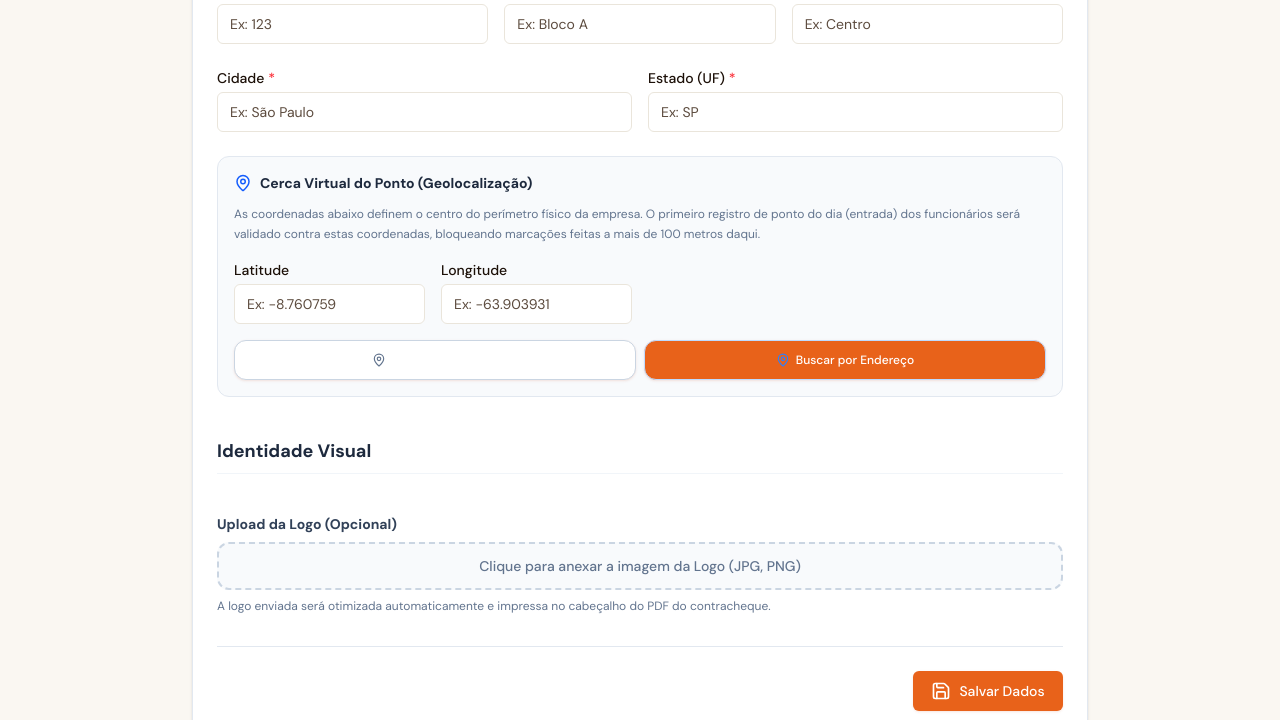
Test: ConfiguracoesEmpresa Component › performs device GPS geolocation calibration
(page scrolled)
Click the button "GPS do Dispositivo" at {"x": 435, "y": 360}, box x1=234 y1=340 x2=636 y2=380
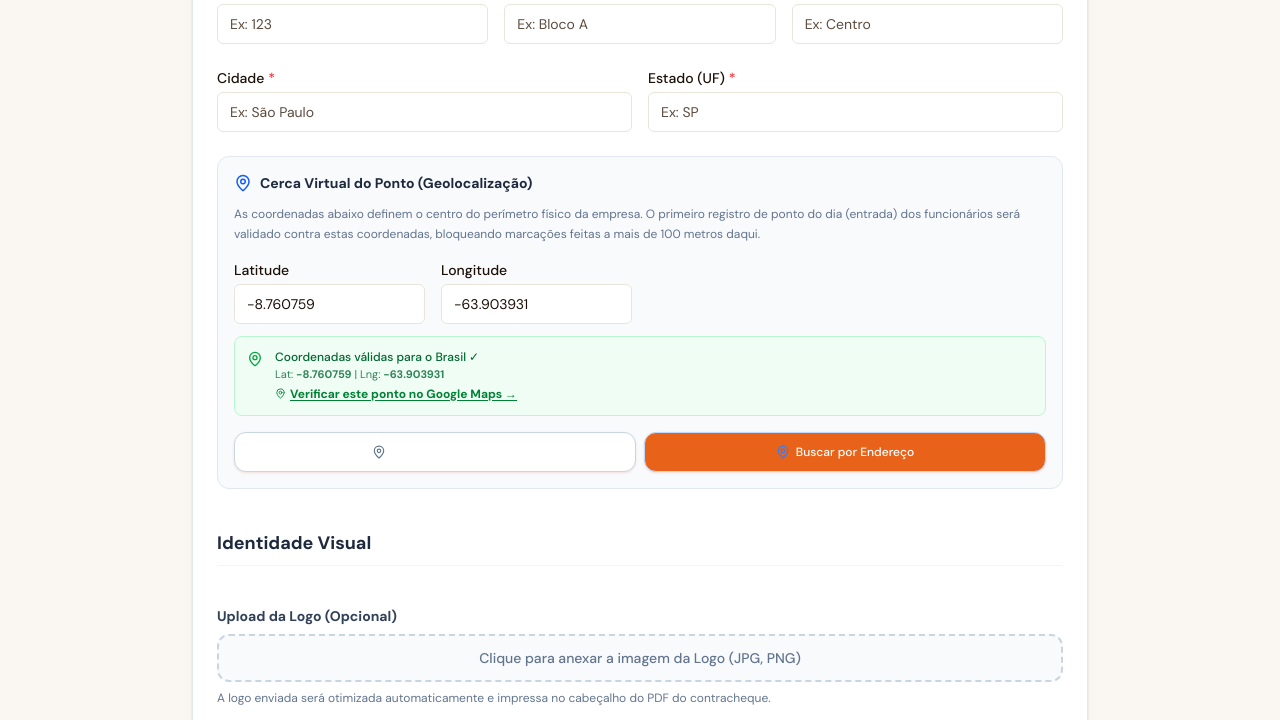
Expected: the field named "latitude" below "Latitude" holds "-8.760759", x1=234 y1=284 x2=425 y2=324
Expected: the field named "longitude" below "Longitude" holds "-63.903931", x1=441 y1=284 x2=632 y2=324
